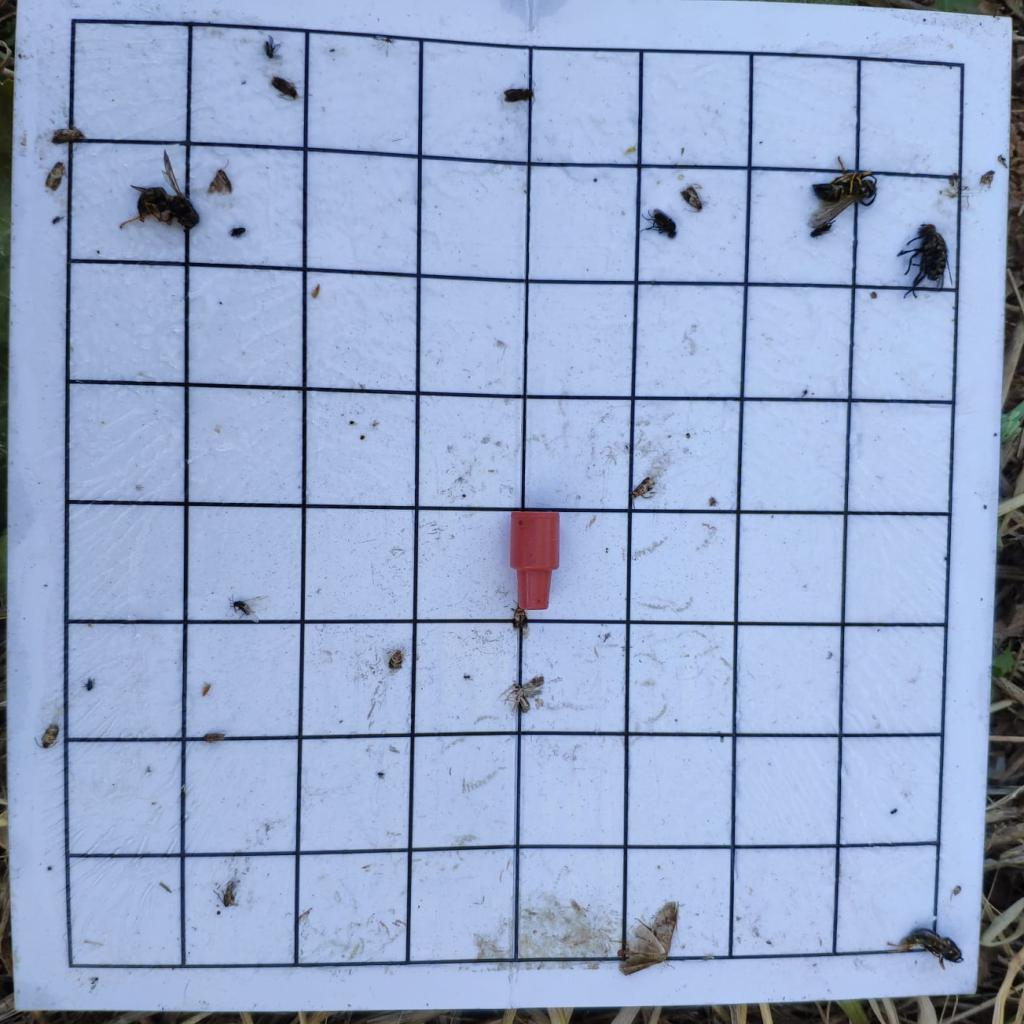grape_moth: (498, 674, 547, 716), (204, 158, 235, 196), (211, 879, 242, 910), (32, 721, 63, 750), (680, 184, 708, 214), (44, 160, 68, 192), (50, 124, 86, 145), (630, 475, 659, 501), (511, 598, 530, 630), (387, 646, 405, 672), (201, 732, 227, 744)
